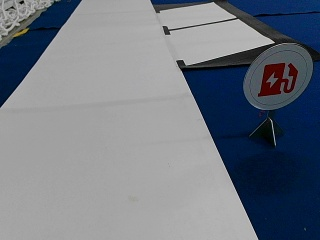battery: (242, 43, 309, 109)
